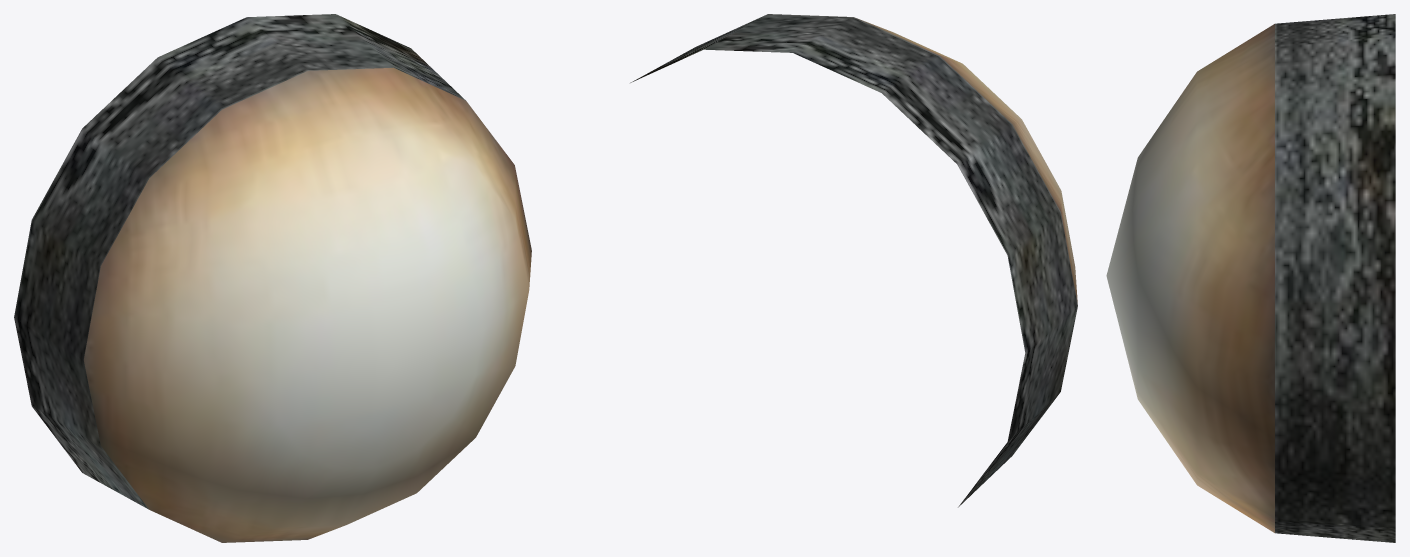
File: bunker_ceiling_light_on.glb
The picture shows the model from 3 angles, left to right: view 1: azimuth 30°, elevation 25°; view 2: azimuth 150°, elevation 25°; view 3: azimuth 270°, elevation 25°; orthographic projection.
Bounding box in the file's own units: 11.92 × 11.92 × 6.51.
2 materials, 2 textured.
